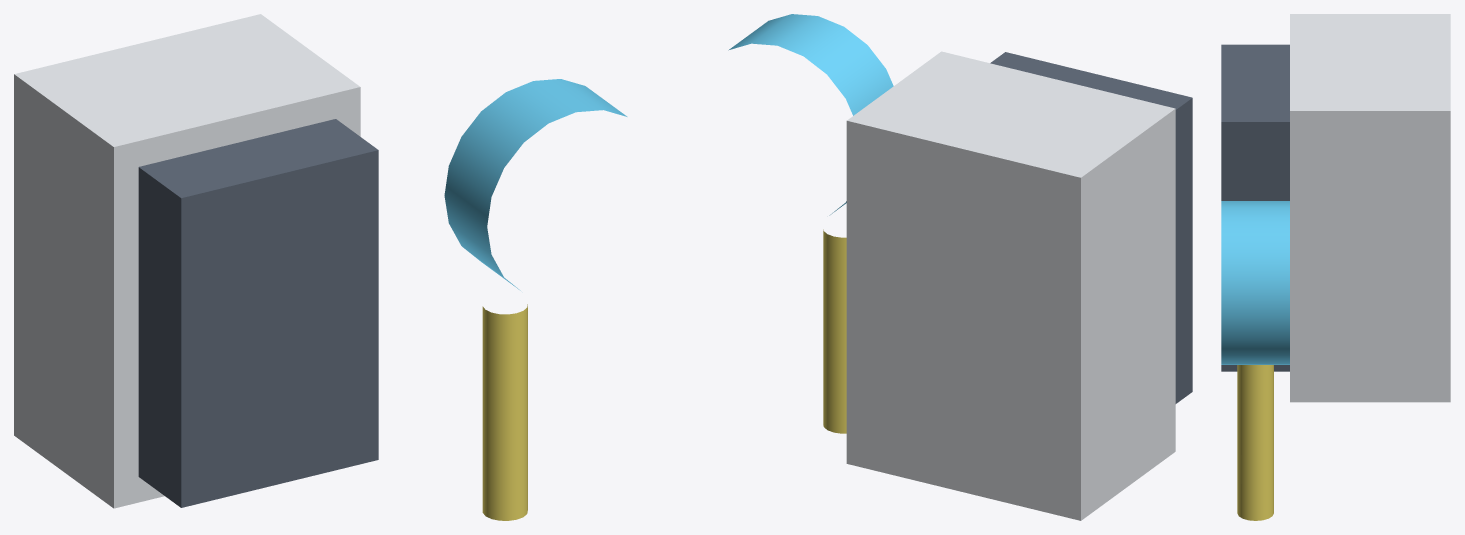
Rendered from fet_mosfet_characteristics.glb.
3 renders of one model, left to right at view 1: azimuth 30°, elevation 25°; view 2: azimuth 150°, elevation 25°; view 3: azimuth 270°, elevation 25°, orthographic. The views are drawn at different scales.
Visible parts, largest first — view 1: TO220PowerMOSFETPackage, ExtrudedAluminumHeatSinkFins, GateBiasPotentiometerDial, JFETGateSourceTerminal; view 2: ExtrudedAluminumHeatSinkFins, TO220PowerMOSFETPackage, GateBiasPotentiometerDial, JFETGateSourceTerminal; view 3: ExtrudedAluminumHeatSinkFins, GateBiasPotentiometerDial, TO220PowerMOSFETPackage, JFETGateSourceTerminal.
Boxes of the visible parts, left/top/right/bottom form: TO220PowerMOSFETPackage: left=138, top=119, right=378, bottom=507; ExtrudedAluminumHeatSinkFins: left=14, top=14, right=360, bottom=508; GateBiasPotentiometerDial: left=444, top=79, right=627, bottom=290; JFETGateSourceTerminal: left=482, top=304, right=527, bottom=520; ExtrudedAluminumHeatSinkFins: left=846, top=51, right=1175, bottom=520; TO220PowerMOSFETPackage: left=990, top=52, right=1192, bottom=403; GateBiasPotentiometerDial: left=728, top=14, right=893, bottom=215; JFETGateSourceTerminal: left=823, top=229, right=846, bottom=433; ExtrudedAluminumHeatSinkFins: left=1290, top=14, right=1450, bottom=402; GateBiasPotentiometerDial: left=1221, top=201, right=1289, bottom=364; TO220PowerMOSFETPackage: left=1221, top=44, right=1289, bottom=371; JFETGateSourceTerminal: left=1237, top=365, right=1273, bottom=520.
Bounding box in the file's own units: 1.03 × 0.85 × 0.5.
